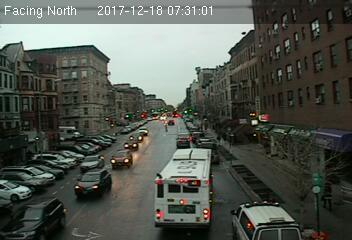bus: (152, 147, 216, 229)
car: (2, 195, 66, 240), (73, 169, 111, 196), (110, 149, 131, 166), (79, 154, 102, 169), (176, 135, 190, 146), (123, 141, 139, 149)
pedestrian: (322, 182, 336, 213)
police: (227, 199, 299, 240)
